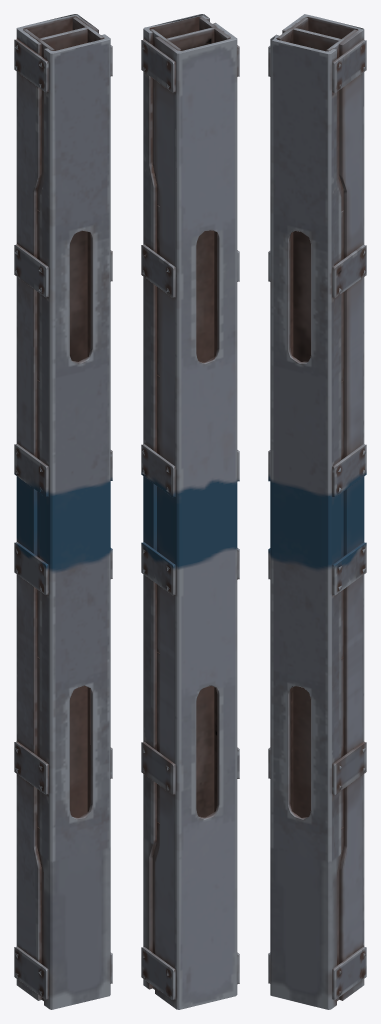
Rendered from Metal Thin Beam.glb.
3 renders of one model, left to right at view 1: azimuth 30°, elevation 25°; view 2: azimuth 210°, elevation 25°; view 3: azimuth 330°, elevation 25°, orthographic.
Visible parts, largest first — view 1: SM_Metal_PillarThin; view 2: SM_Metal_PillarThin; view 3: SM_Metal_PillarThin.
Boxes of the visible parts, x1,y1,x2,y2 form: SM_Metal_PillarThin: [14, 14, 112, 1009]; SM_Metal_PillarThin: [141, 14, 239, 1009]; SM_Metal_PillarThin: [268, 14, 366, 1009].
Size of the model in its own units: 0.23 by 3 by 0.2013.
Materials: 1 (1 with a texture image).
